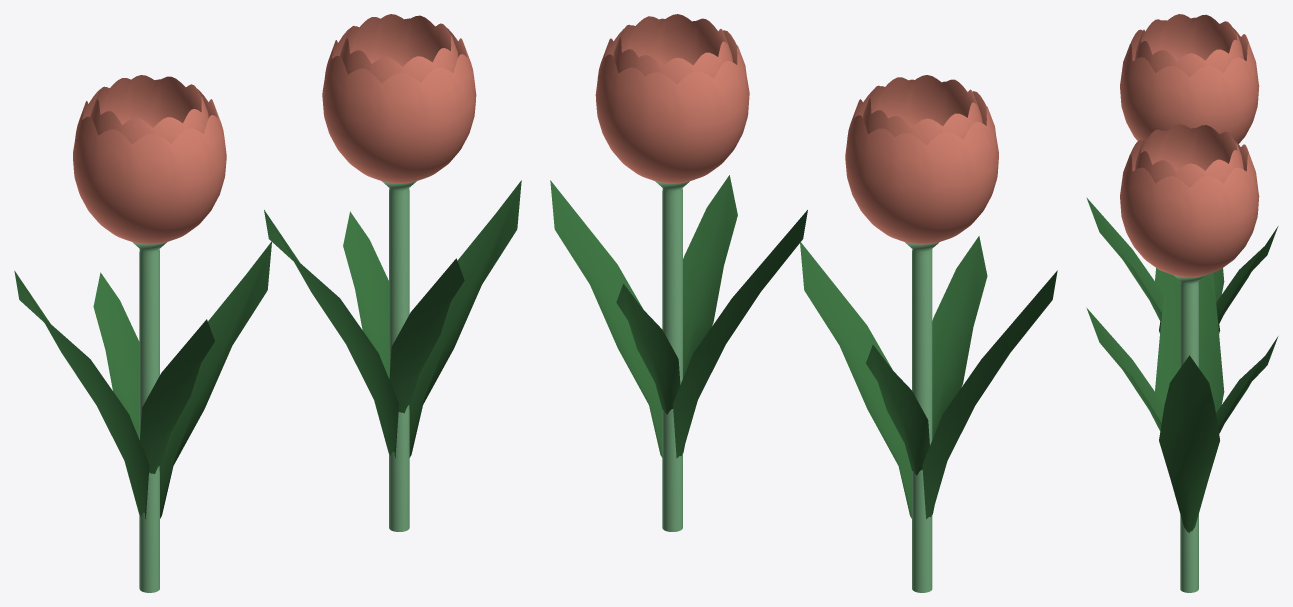
The model's file is 鬱金香.fbx.
3 views of the same model, side by side, from view 1: azimuth 30°, elevation 25°; view 2: azimuth 150°, elevation 25°; view 3: azimuth 270°, elevation 25° (orthographic). The views are drawn at different scales.
Parts seen in each view (by area): view 1: flower.002, flower, flower.003, flower.001, leaf, leaf.004, 圓柱體.001, 圓柱體, leaf.001, leaf.005, leaf.006, leaf.002 (+2 smaller); view 2: flower, flower.002, leaf, leaf.004, flower.001, flower.003, 圓柱體.001, 圓柱體, leaf.006, leaf.002, leaf.001, leaf.005 (+2 smaller); view 3: flower, flower.002, leaf, flower.001, flower.003, leaf.001, 圓柱體, leaf.006, leaf.002, leaf.007, leaf.003, leaf.005.
Part boxes in pixels (x1=…): flower.002: x1=73, y1=79, x2=226, y2=244; flower: x1=322, y1=18, x2=476, y2=183; flower.003: x1=90, y1=75, x2=208, y2=144; flower.001: x1=340, y1=14, x2=458, y2=83; leaf: x1=409, y1=180, x2=521, y2=457; leaf.004: x1=160, y1=241, x2=271, y2=518; 圓柱體.001: x1=132, y1=242, x2=166, y2=592; 圓柱體: x1=382, y1=181, x2=416, y2=531; leaf.001: x1=264, y1=210, x2=398, y2=458; leaf.005: x1=14, y1=270, x2=149, y2=518; leaf.006: x1=140, y1=319, x2=214, y2=474; leaf.002: x1=389, y1=258, x2=464, y2=413; flower: x1=595, y1=18, x2=749, y2=183; flower.002: x1=845, y1=79, x2=998, y2=244; leaf: x1=550, y1=180, x2=662, y2=457; leaf.004: x1=800, y1=241, x2=911, y2=518; flower.001: x1=613, y1=14, x2=732, y2=84; flower.003: x1=863, y1=75, x2=982, y2=145; 圓柱體.001: x1=905, y1=242, x2=939, y2=592; 圓柱體: x1=655, y1=181, x2=689, y2=531; leaf.006: x1=932, y1=236, x2=987, y2=439; leaf.002: x1=683, y1=175, x2=737, y2=377; leaf.001: x1=673, y1=210, x2=807, y2=458; leaf.005: x1=922, y1=270, x2=1057, y2=519; flower: x1=1120, y1=127, x2=1259, y2=277; flower.002: x1=1120, y1=17, x2=1259, y2=143; leaf: x1=1159, y1=355, x2=1219, y2=532; flower.001: x1=1135, y1=124, x2=1243, y2=187; flower.003: x1=1135, y1=14, x2=1243, y2=77; leaf.001: x1=1155, y1=272, x2=1224, y2=412; 圓柱體: x1=1174, y1=275, x2=1204, y2=592; leaf.006: x1=1086, y1=197, x2=1163, y2=320; leaf.002: x1=1086, y1=307, x2=1163, y2=430; leaf.007: x1=1216, y1=226, x2=1278, y2=323; leaf.003: x1=1216, y1=336, x2=1278, y2=433; leaf.005: x1=1155, y1=268, x2=1224, y2=302.
Bounding box in the file's own units: 676 × 627 × 245.
